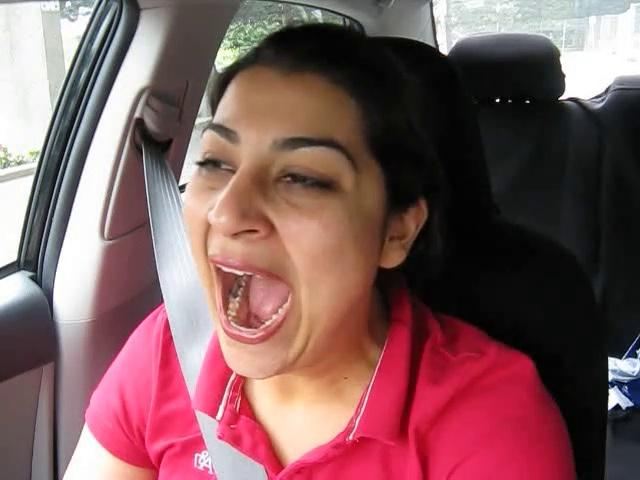close_eyeL: (179, 142, 249, 189)
close_eyeR: (253, 154, 359, 211)
yawn: (181, 239, 319, 362)
